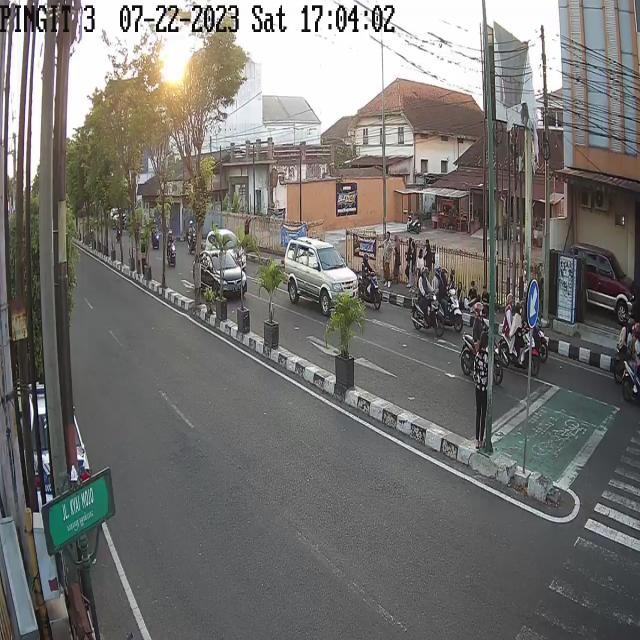car: (284, 238, 356, 313), (575, 244, 636, 321), (199, 251, 248, 302), (205, 224, 247, 275)
motorcycle: (460, 296, 499, 387), (502, 292, 537, 370), (612, 321, 640, 406), (433, 267, 459, 327), (414, 266, 434, 333), (357, 250, 379, 307), (168, 228, 178, 266), (190, 216, 198, 254)
